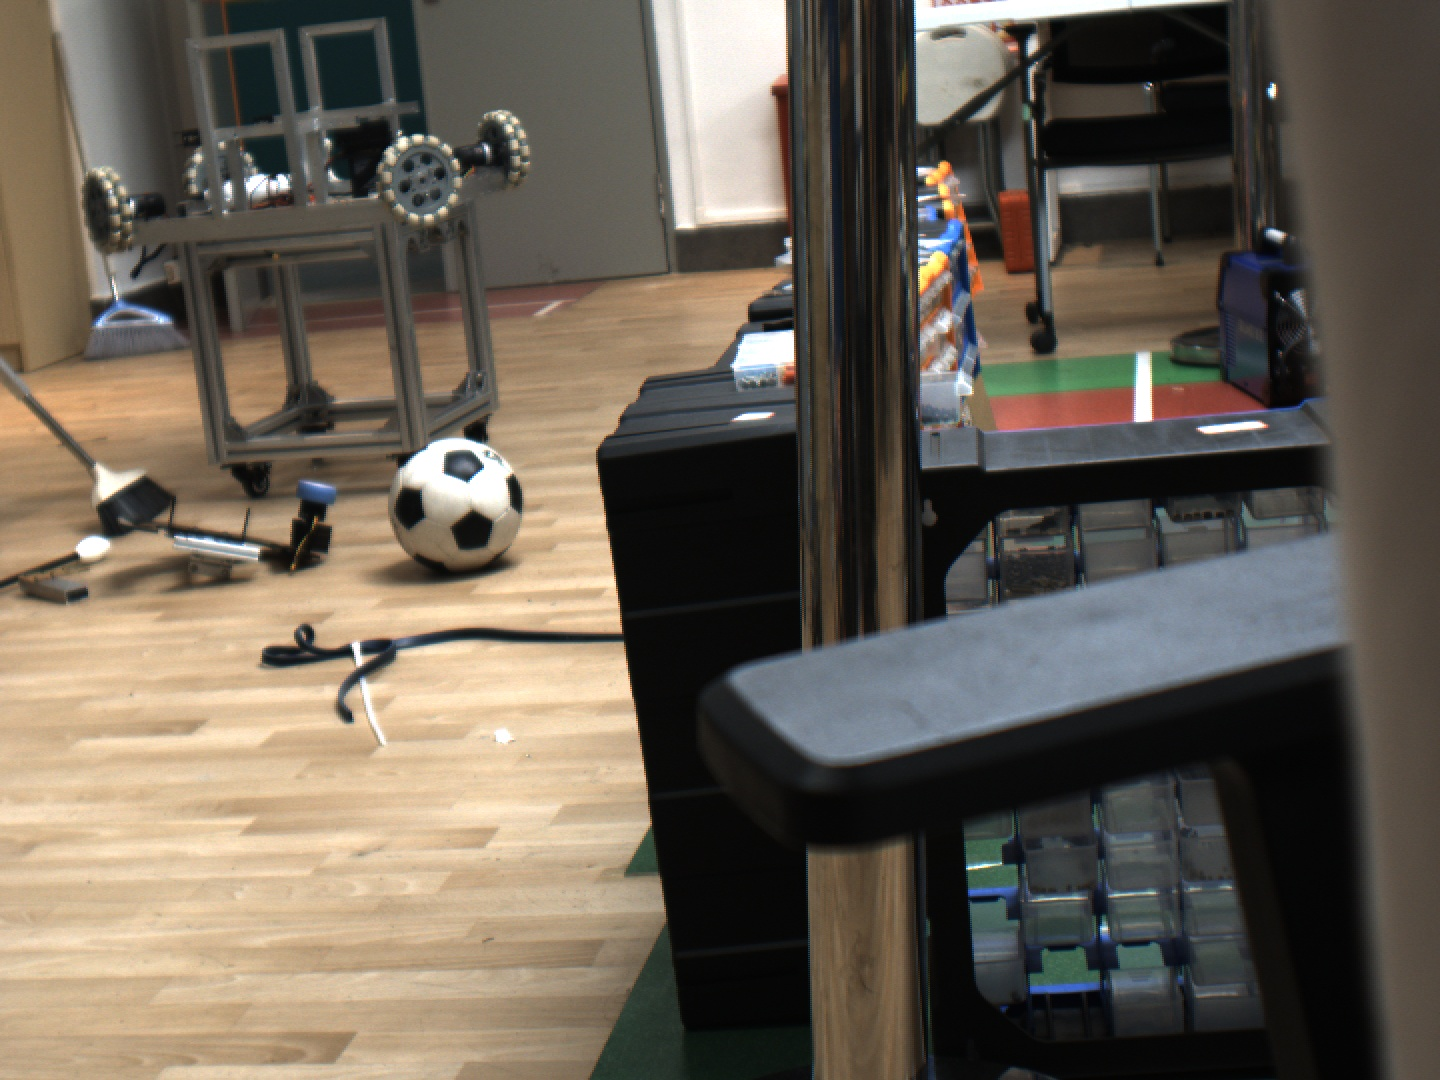ball: (370, 424, 533, 580)
